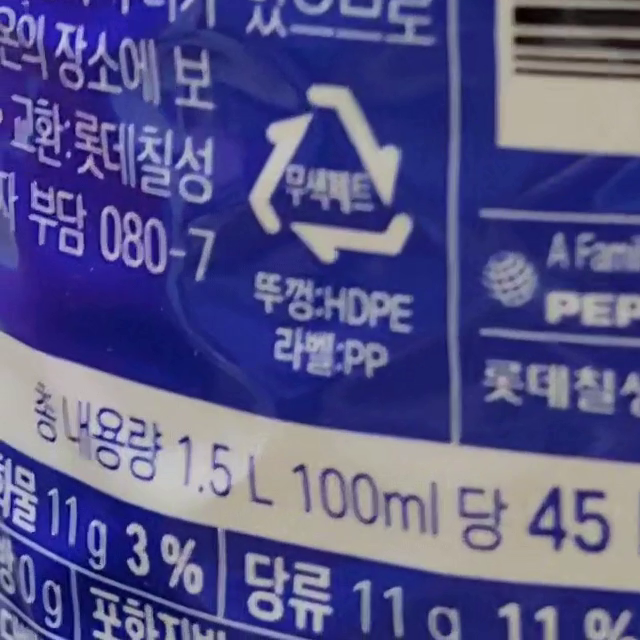ColorlessPet: (251, 85, 409, 264)
